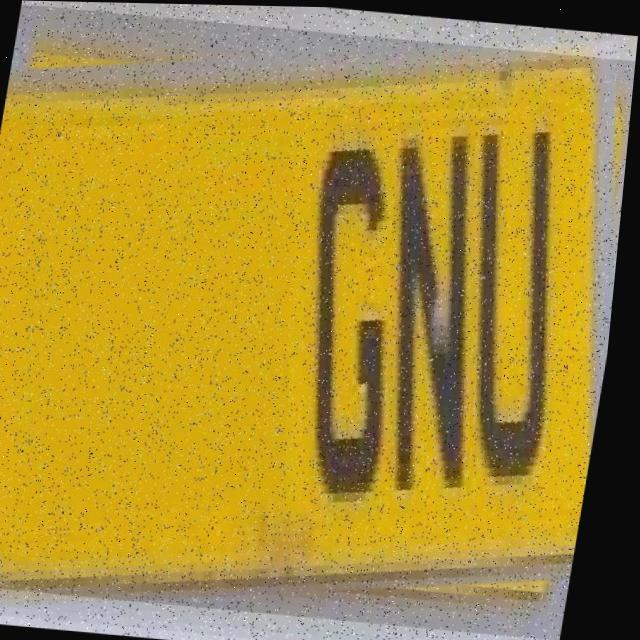LicensePlate: (0, 3, 640, 637)
